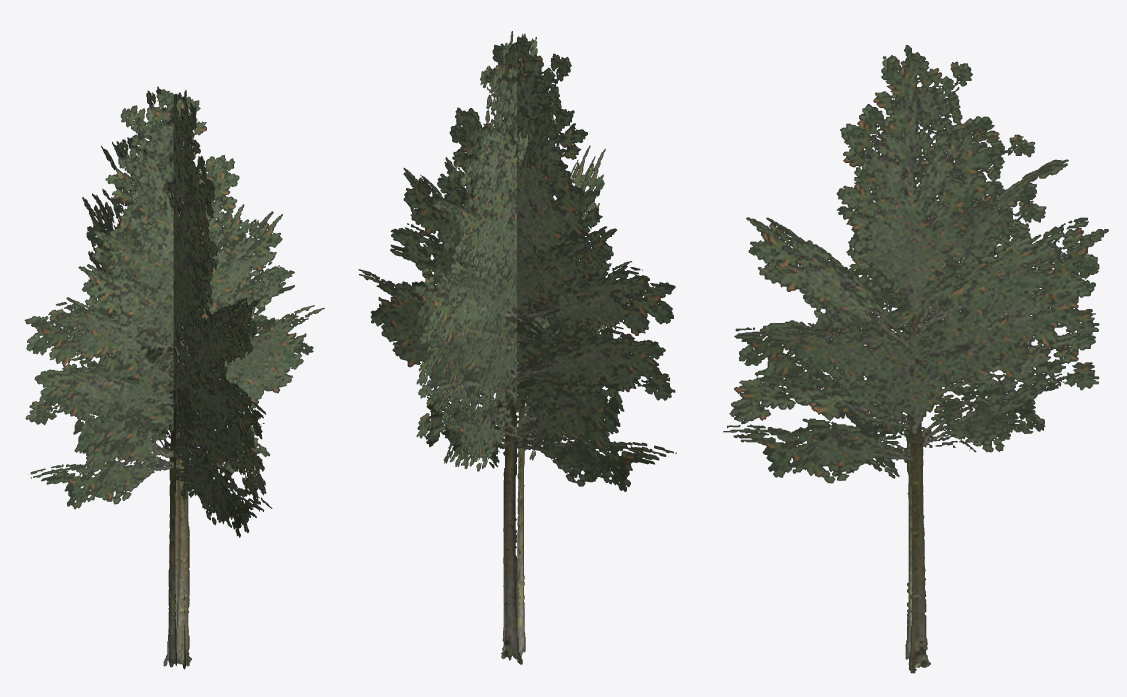
File: Billboard_Maple_02.fbx
3 renders of one model, left to right at view 1: azimuth 30°, elevation 25°; view 2: azimuth 150°, elevation 25°; view 3: azimuth 270°, elevation 25°, orthographic. The views are drawn at different scales.
Parts seen in each view (by area): view 1: Billboard_Maple_02; view 2: Billboard_Maple_02; view 3: Billboard_Maple_02.
Part boxes in pixels (<box>): Billboard_Maple_02: <box>24,86,324,669</box>; Billboard_Maple_02: <box>358,31,676,664</box>; Billboard_Maple_02: <box>723,45,1108,673</box>.
Bounding box in the file's own units: 233 × 427 × 235.
